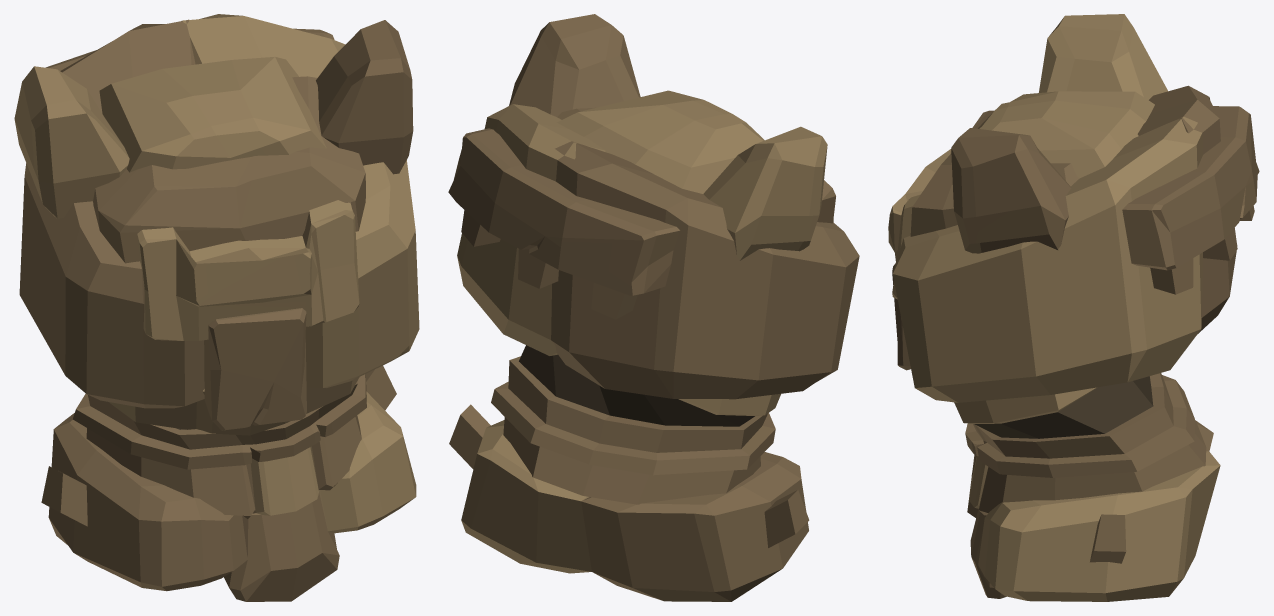
File: chest.gltf
3 views of the same model, side by side, from view 1: azimuth 30°, elevation 25°; view 2: azimuth 150°, elevation 25°; view 3: azimuth 270°, elevation 25° (orthographic). The views are drawn at different scales.
Visible parts, largest first — view 1: chest; view 2: chest; view 3: chest.
Boxes of the visible parts, x1=… form: chest: x1=14, y1=14, x2=419, y2=601; chest: x1=448, y1=14, x2=859, y2=601; chest: x1=888, y1=14, x2=1259, y2=601.
Size of the model in its own units: 4.68 by 6.52 by 4.29.
1 material, 1 textured.
